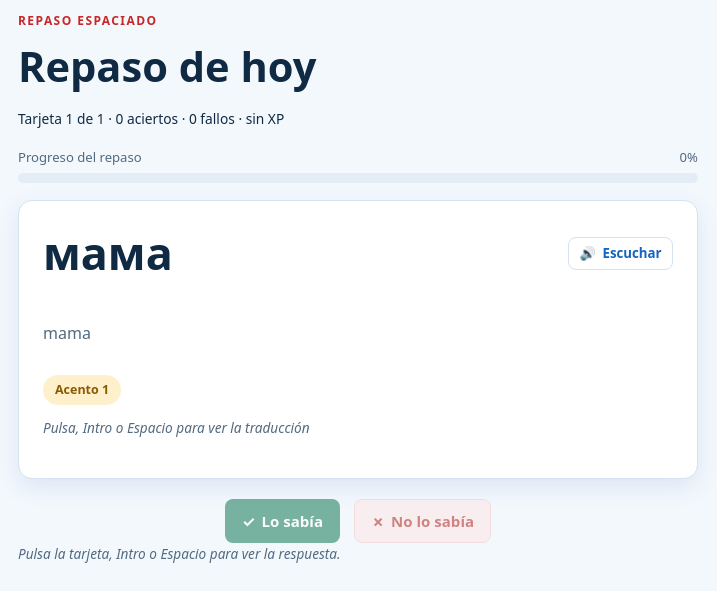
Scenario: Tarjeta de repaso › una ronda reiniciada avisa de que no suma XP
Press Enter in the button with aria-label "tarjeta: мама", box [18,200,698,479]
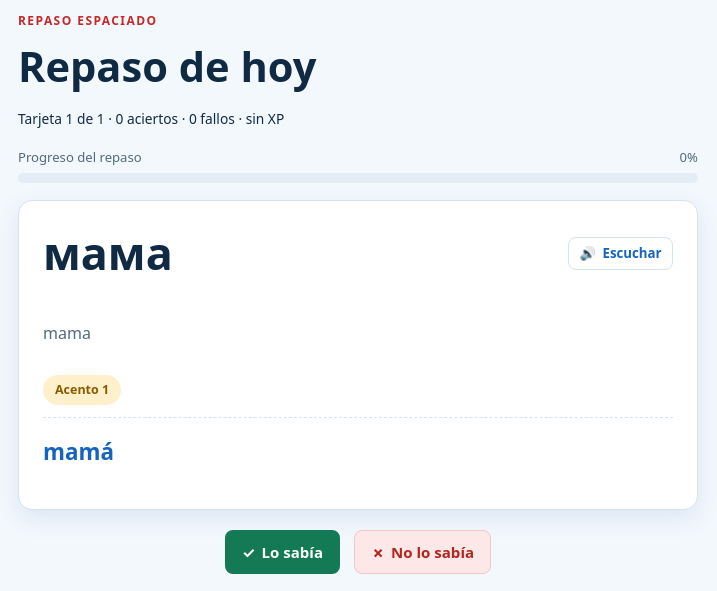
Expected: the button with aria-label "Lo sabía: subir de caja" is enabled
Click the button with aria-label "Lo sabía: subir de caja" at (282, 552), box [225,530,340,574]
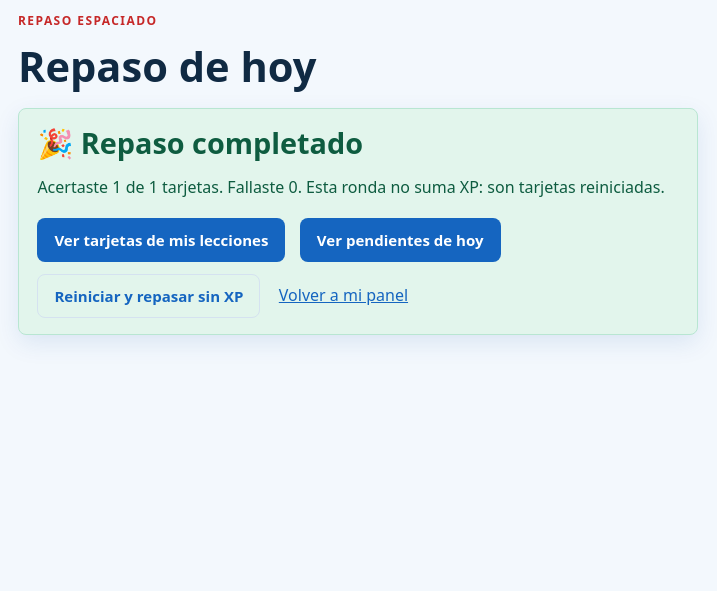
Expected: the text "Esta ronda no suma XP" is shown, [302,176,665,198]
